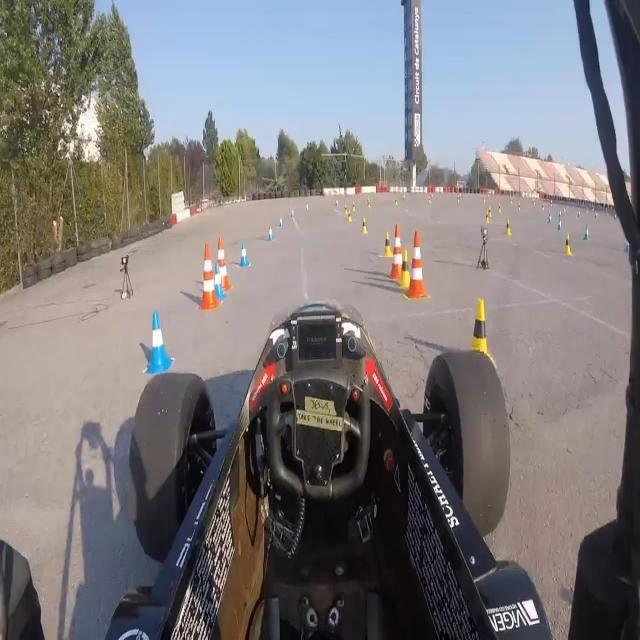blue_cone: (144, 312, 172, 374), (213, 260, 225, 300), (240, 242, 250, 267), (267, 224, 274, 242), (584, 225, 590, 242), (557, 217, 563, 231), (279, 214, 284, 228), (547, 213, 552, 225), (291, 207, 295, 219), (306, 202, 308, 211)
large_orange_cone: (196, 243, 220, 310), (406, 233, 428, 299), (390, 222, 403, 284), (219, 238, 232, 294)
yellow_cone: (466, 298, 496, 370), (398, 252, 412, 288), (382, 233, 392, 257), (564, 231, 572, 257), (504, 215, 511, 237), (362, 216, 369, 235), (367, 196, 372, 209), (344, 201, 348, 216), (348, 208, 352, 222), (486, 210, 490, 223), (352, 201, 356, 212), (498, 203, 501, 212)
